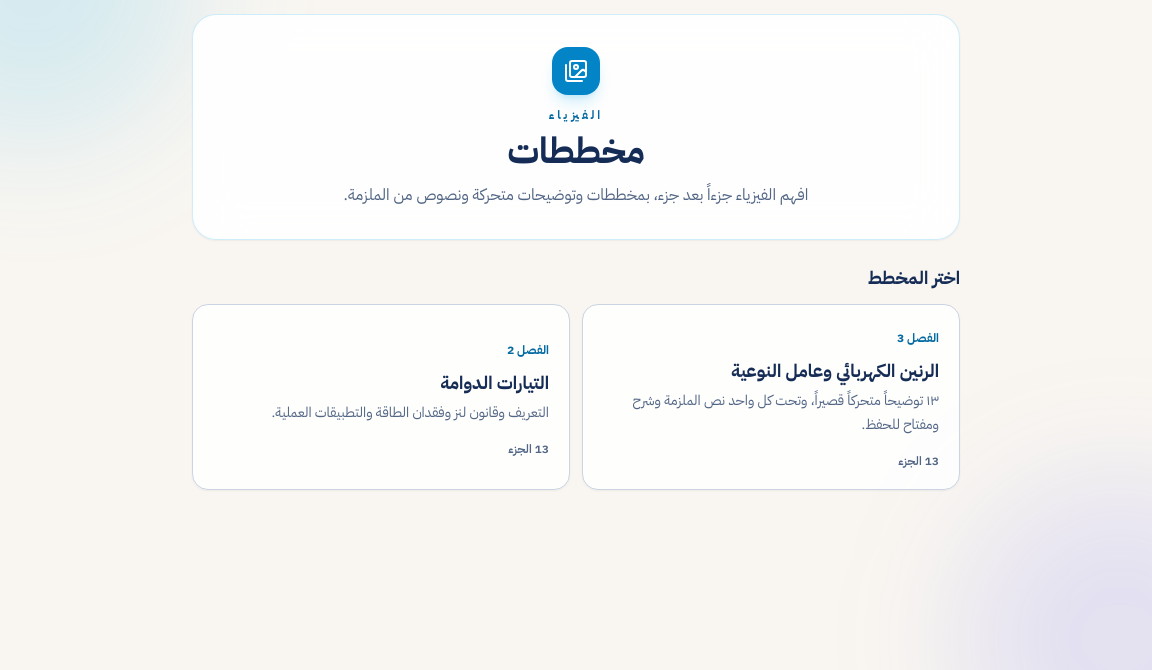
Test: physics scheme videos › places source text below the silent video and resets recall between parts
The image size is (1152, 670).
Click the button "الرنين الكهربائي وعامل النوعية" at [771, 397], box left=582, top=304, right=960, bottom=490
(page scrolled)
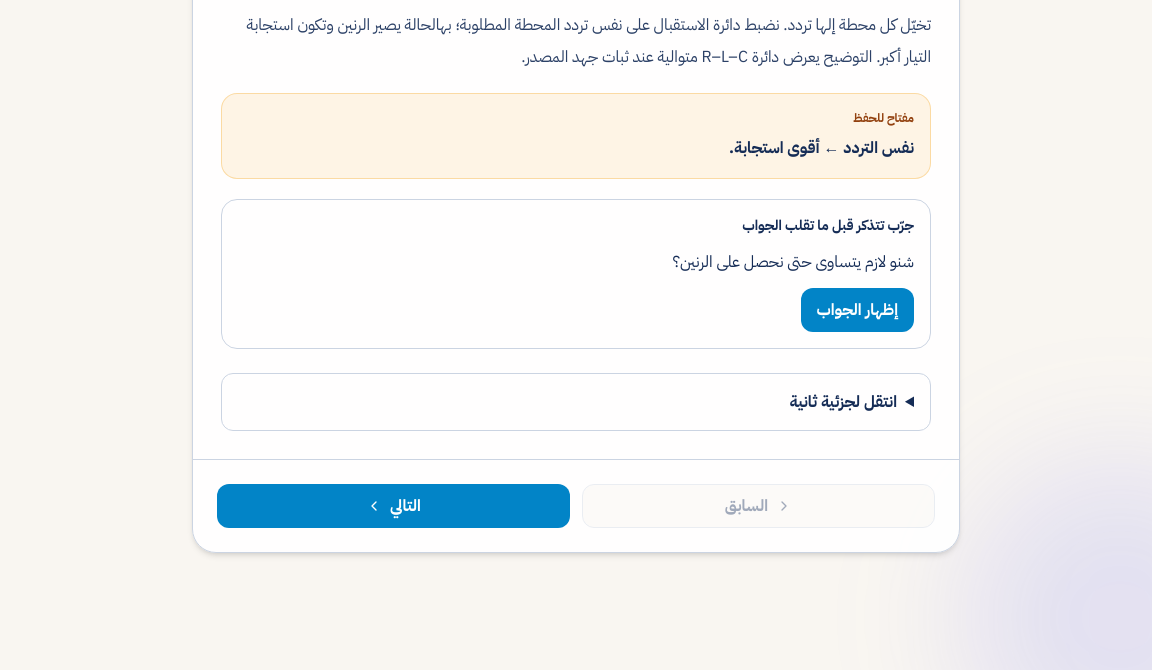
Click the button "إظهار الجواب" at [857, 310], box left=800, top=288, right=914, bottom=332
(page scrolled)
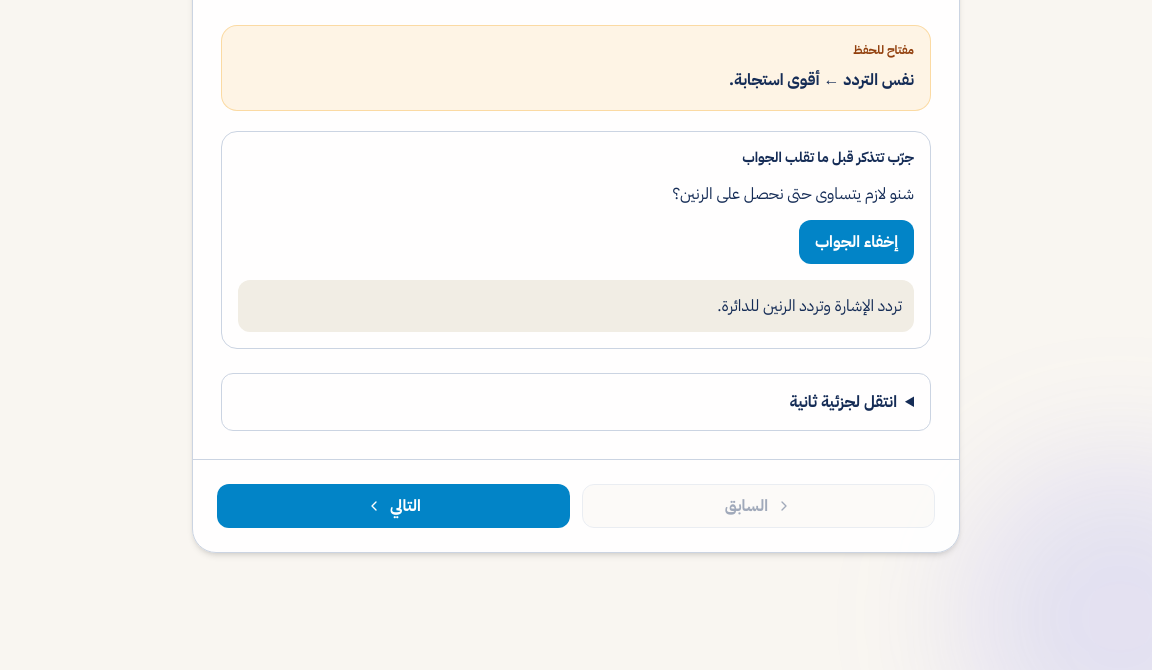
Expected: the text "تردد الإشارة وتردد الرنين للدائرة." is shown, left=238, top=280, right=914, bottom=332
Click the button "التالي" at [394, 506], box left=217, top=484, right=570, bottom=528
(page scrolled)
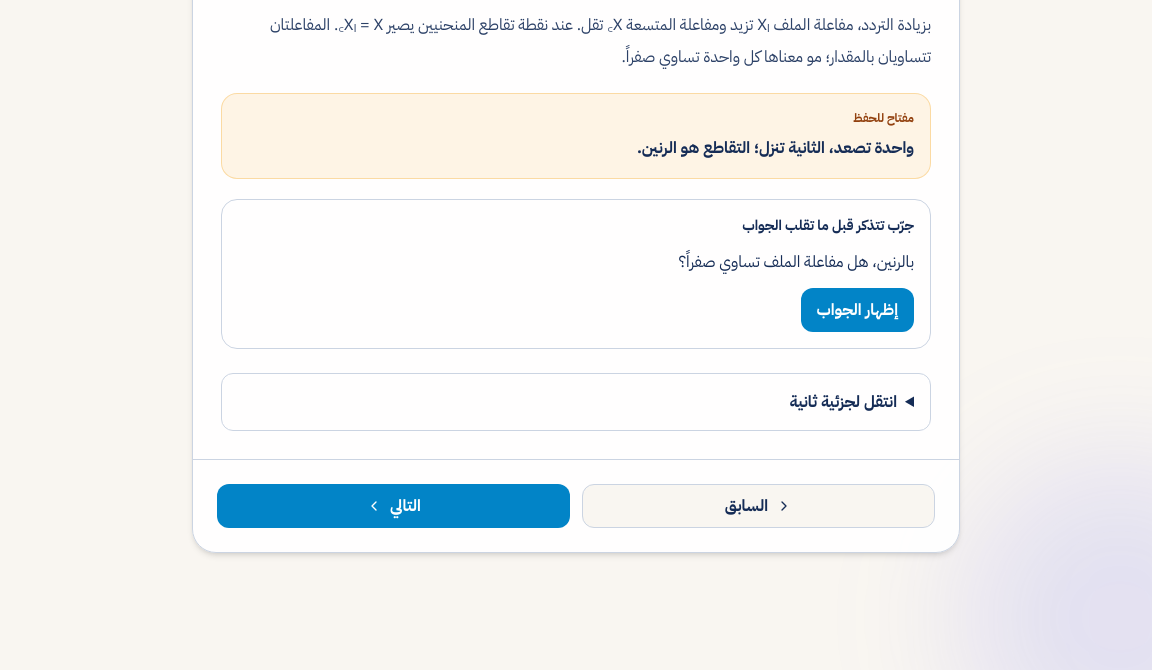
Expected: the button "إظهار الجواب" is collapsed, left=800, top=288, right=914, bottom=332
